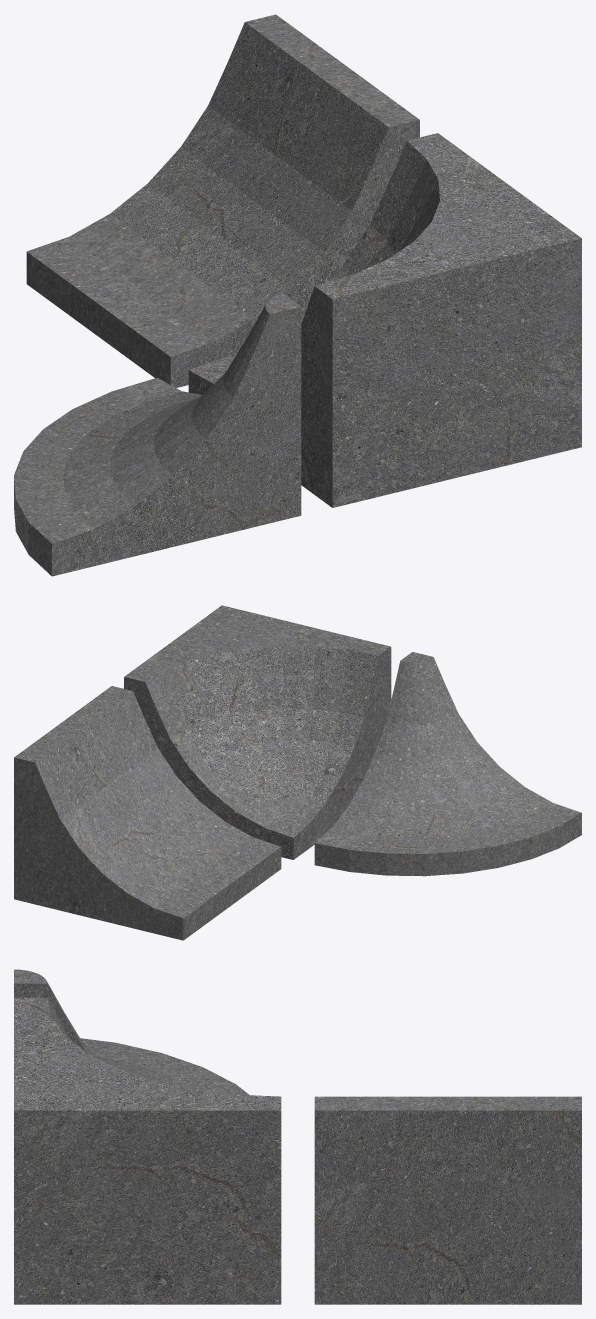
File: ramp1.fbx
The picture shows the model from 3 angles, top to bottom: view 1: azimuth 30°, elevation 25°; view 2: azimuth 150°, elevation 25°; view 3: azimuth 270°, elevation 25°; orthographic projection. The views are drawn at different scales.
Visible parts, largest first — view 1: Cube.002, Cube.001, Cube.000; view 2: Cube.002, Cube.001, Cube.000; view 3: Cube.002, Cube.001, Cube.000.
Part boxes in pixels (x1=…): Cube.002: x1=188, y1=133, x2=581, y2=507; Cube.001: x1=26, y1=14, x2=419, y2=387; Cube.000: x1=14, y1=293, x2=301, y2=576; Cube.002: x1=124, y1=605, x2=391, y2=859; Cube.001: x1=14, y1=686, x2=281, y2=940; Cube.000: x1=314, y1=652, x2=581, y2=876; Cube.002: x1=14, y1=997, x2=281, y2=1304; Cube.001: x1=314, y1=1096, x2=581, y2=1304; Cube.000: x1=14, y1=969, x2=249, y2=1095.
Size of the model in its own units: 4.25 by 1.6 by 4.25.
